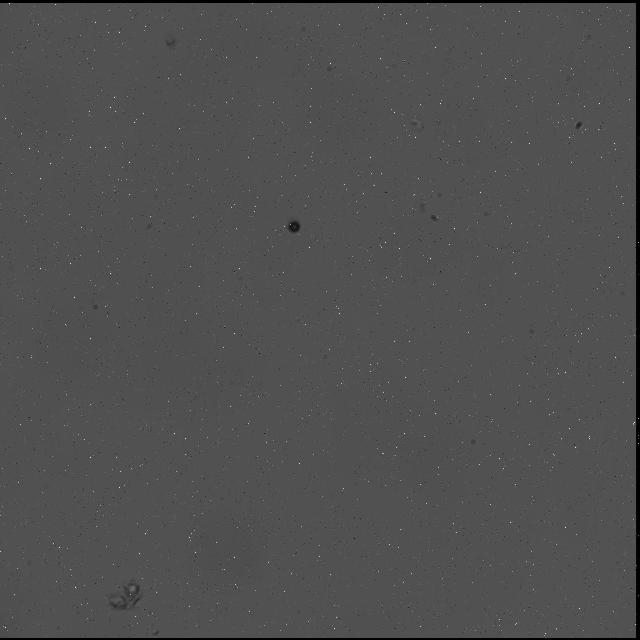microbeads: (285, 219, 299, 235)
